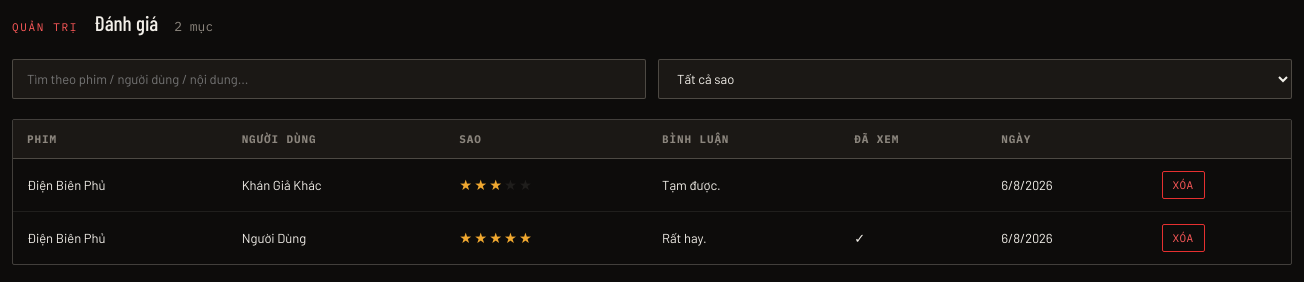
AdminReviews › lọc theo số sao
The width and height of the screenshot is (1304, 282).
Check: the text "Rất hay." is shown, box x1=648 y1=212 x2=840 y2=264
Select "3 sao" in the dropdown named "Lọc theo số sao": (975, 79) x1=658 y1=59 x2=1292 y2=99
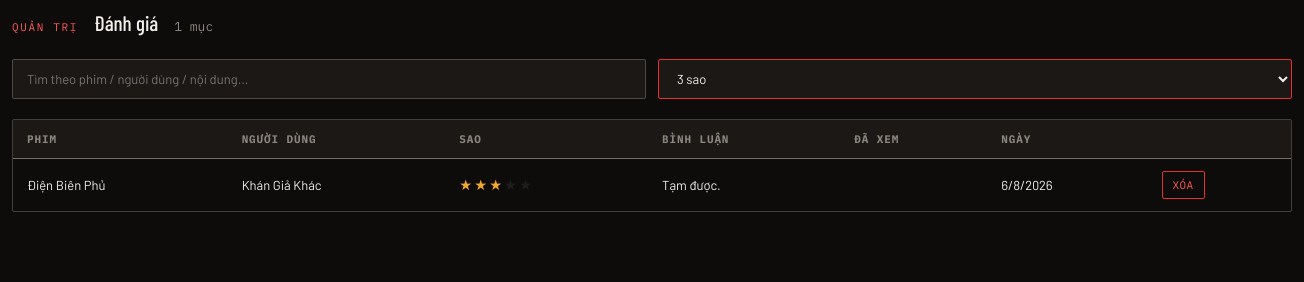
Check: the text "1 mục" is shown, box x1=174 y1=18 x2=213 y2=35
